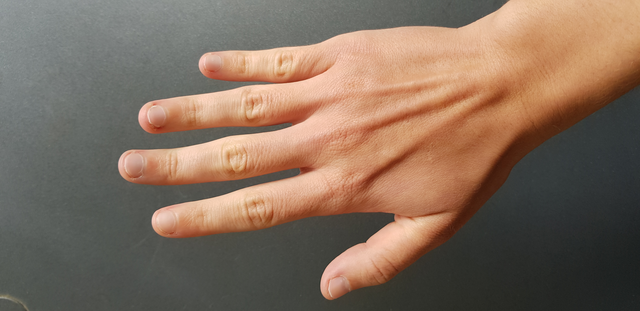Paper: (100, 21, 566, 304)
